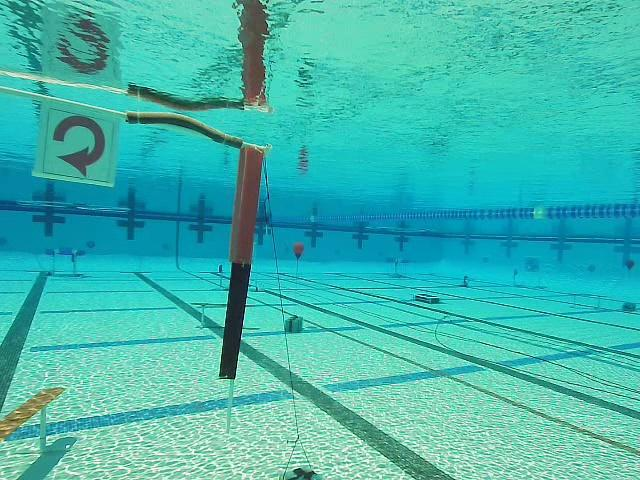buoy: (294, 244, 304, 259)
dropper: (412, 291, 440, 306)
gate_leg_r: (219, 143, 266, 379)
gate_red: (40, 105, 118, 184)
table: (42, 247, 86, 280), (382, 255, 415, 280)
torpedo: (522, 254, 542, 274)
